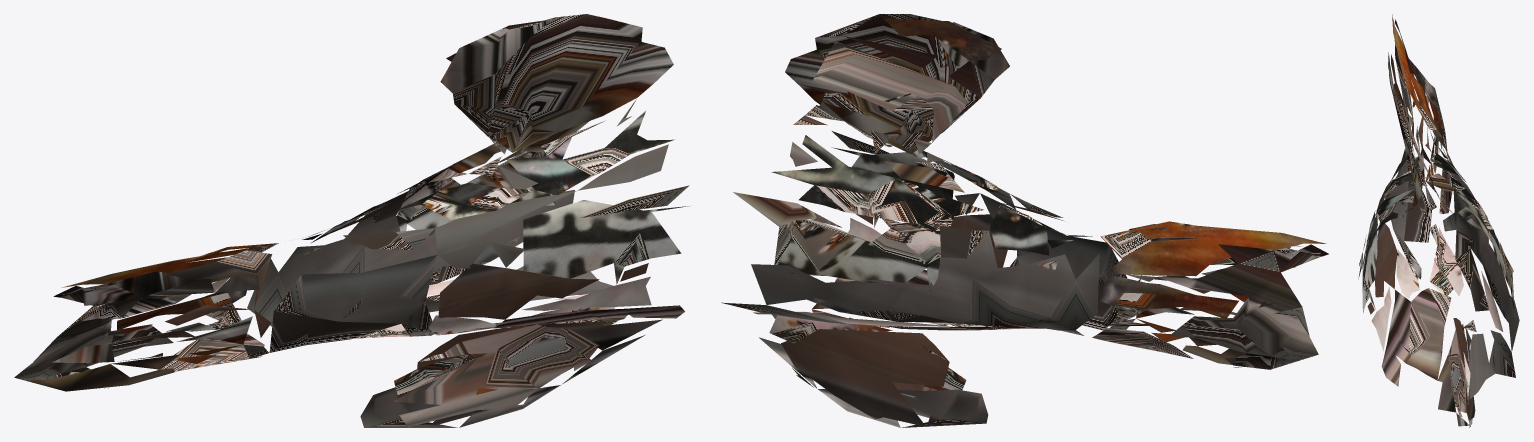
The model's file is stripedpuffer_b.glb.
3 views of the same model, side by side, from view 1: azimuth 30°, elevation 25°; view 2: azimuth 150°, elevation 25°; view 3: azimuth 270°, elevation 25° (orthographic). The views are drawn at different scales.
Parts seen in each view (by area): view 1: stripedpuffer_b; view 2: stripedpuffer_b; view 3: stripedpuffer_b.
Boxes of the visible parts, bbox=[...] form: stripedpuffer_b: bbox=[14, 14, 689, 427]; stripedpuffer_b: bbox=[721, 14, 1328, 427]; stripedpuffer_b: bbox=[1358, 14, 1519, 427].
Bounding box in the file's own units: 0.2133 × 0.1378 × 0.0595.
1 material, 1 textured.
